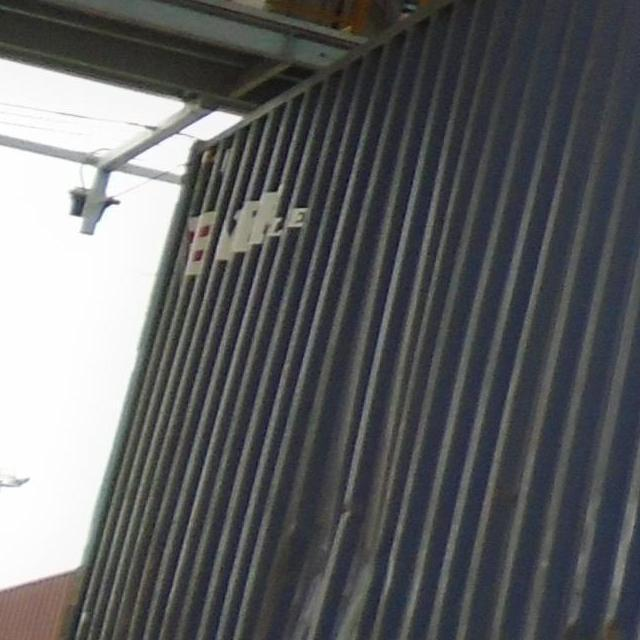dent: (246, 380, 414, 640)
